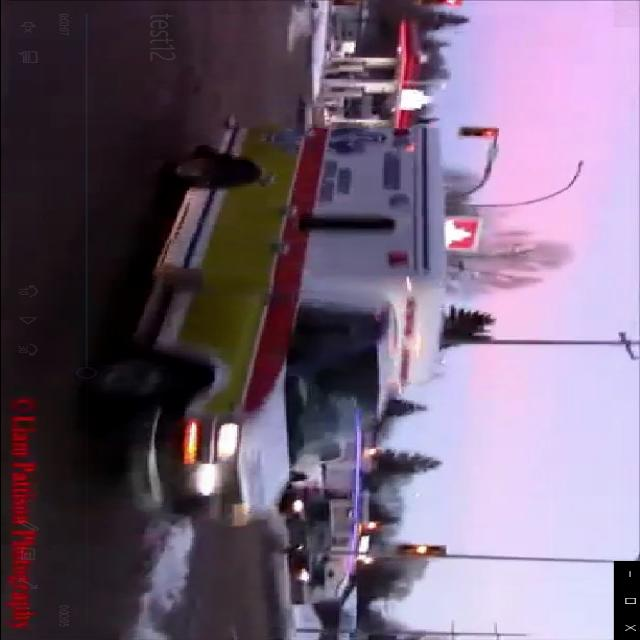emergency: (66, 119, 448, 533)
